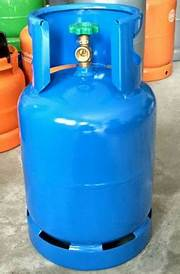blue_gas: (19, 4, 157, 266)
